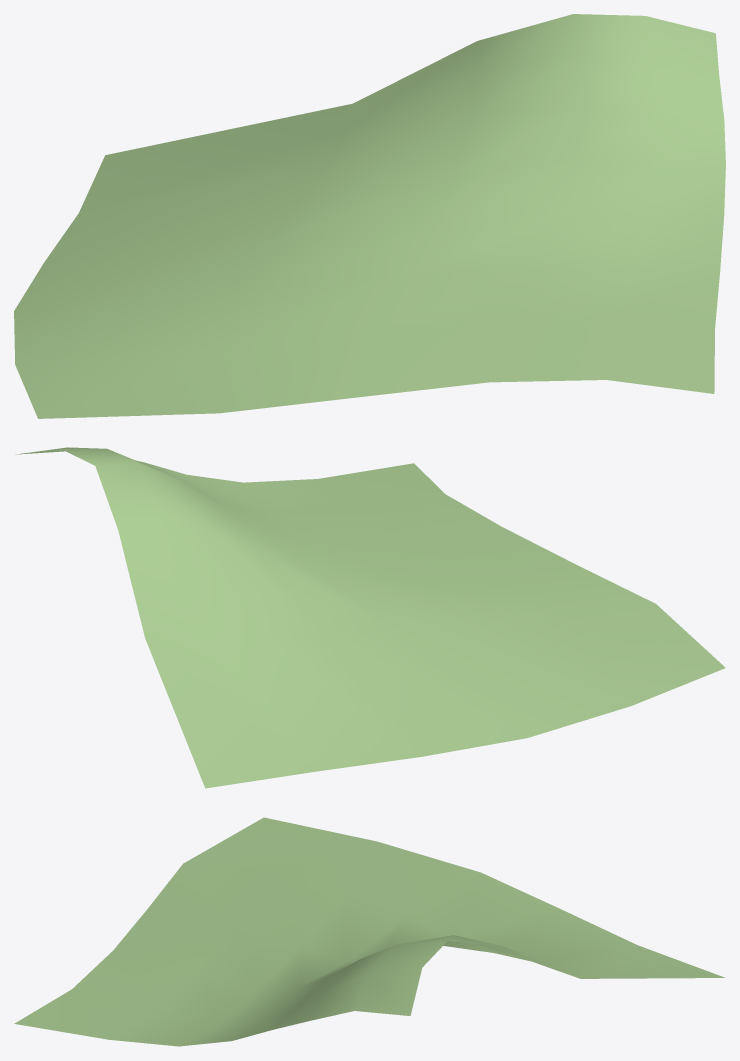
The model's file is level_78.fbx.
3 renders of one model, top to bottom at view 1: azimuth 30°, elevation 25°; view 2: azimuth 150°, elevation 25°; view 3: azimuth 270°, elevation 25°, orthographic. The views are drawn at different scales.
Parts seen in each view (by area): view 1: loc_078; view 2: loc_078; view 3: loc_078.
Boxes of the visible parts, box(x1,y1,x2,y2) form: loc_078: box(14, 14, 725, 418); loc_078: box(15, 447, 725, 788); loc_078: box(14, 817, 725, 1046).
Size of the model in its own units: 36.28 by 8.64 by 35.26.
